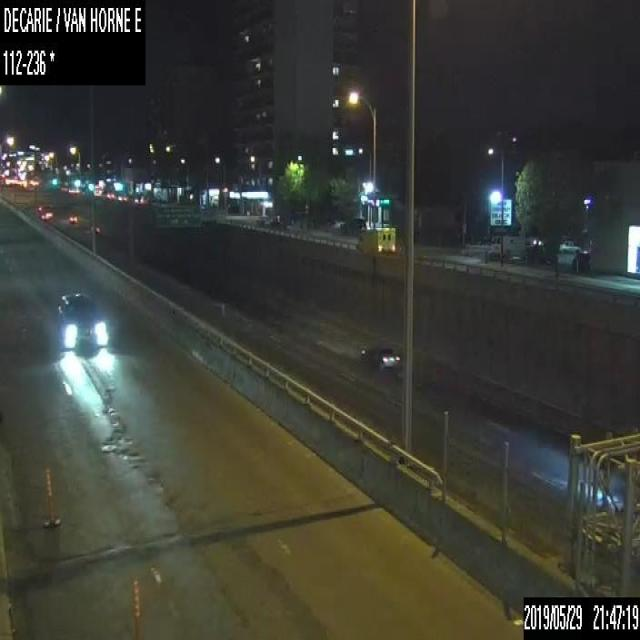construction: (43, 467, 59, 529), (131, 578, 139, 638)
vehicle: (55, 291, 107, 348), (356, 226, 396, 254), (357, 343, 399, 369), (340, 217, 366, 233), (571, 250, 591, 268), (68, 213, 76, 223)
